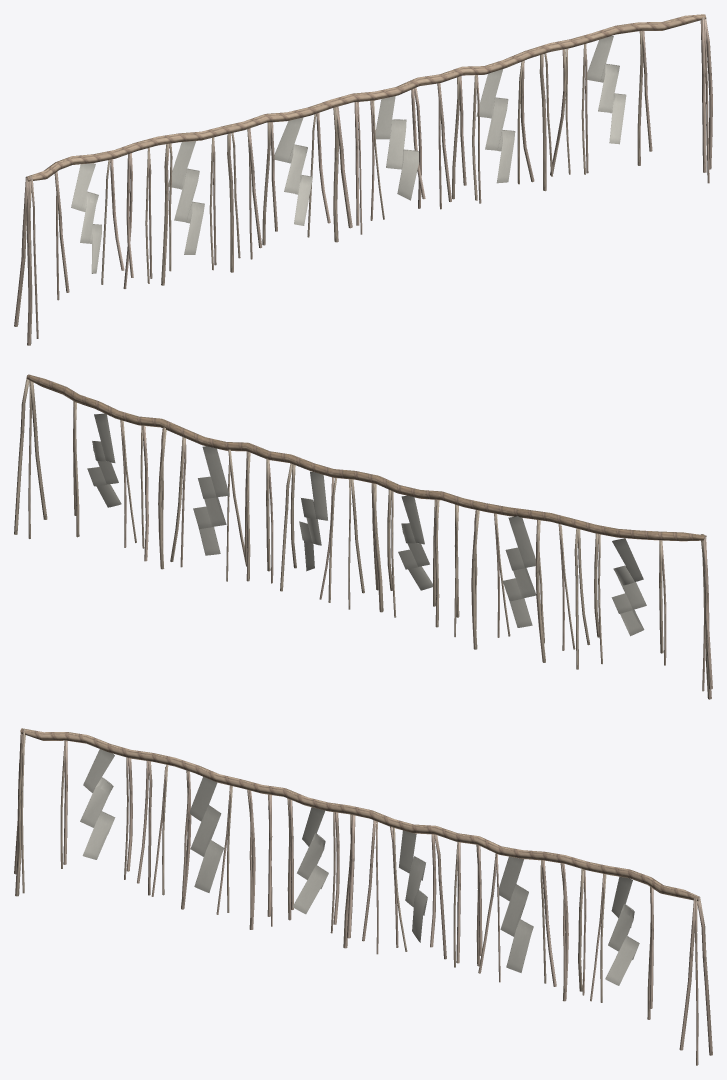
Rendered from Torii_Accessory_Shimenawa3.fbx.
3 renders of one model, top to bottom at view 1: azimuth 30°, elevation 25°; view 2: azimuth 150°, elevation 25°; view 3: azimuth 330°, elevation 25°, orthographic.
Parts seen in each view (by area): view 1: Torii_access_shimenawa3; view 2: Torii_access_shimenawa3; view 3: Torii_access_shimenawa3.
Part boxes in pixels (x1,y1,x2,y2): Torii_access_shimenawa3: (14,14,712,345); Torii_access_shimenawa3: (14,374,712,699); Torii_access_shimenawa3: (14,728,712,1065).
Size of the model in its own units: 3.1 by 0.7235 by 0.2166.
